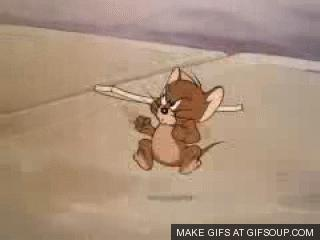jerry: (132, 65, 226, 176)
